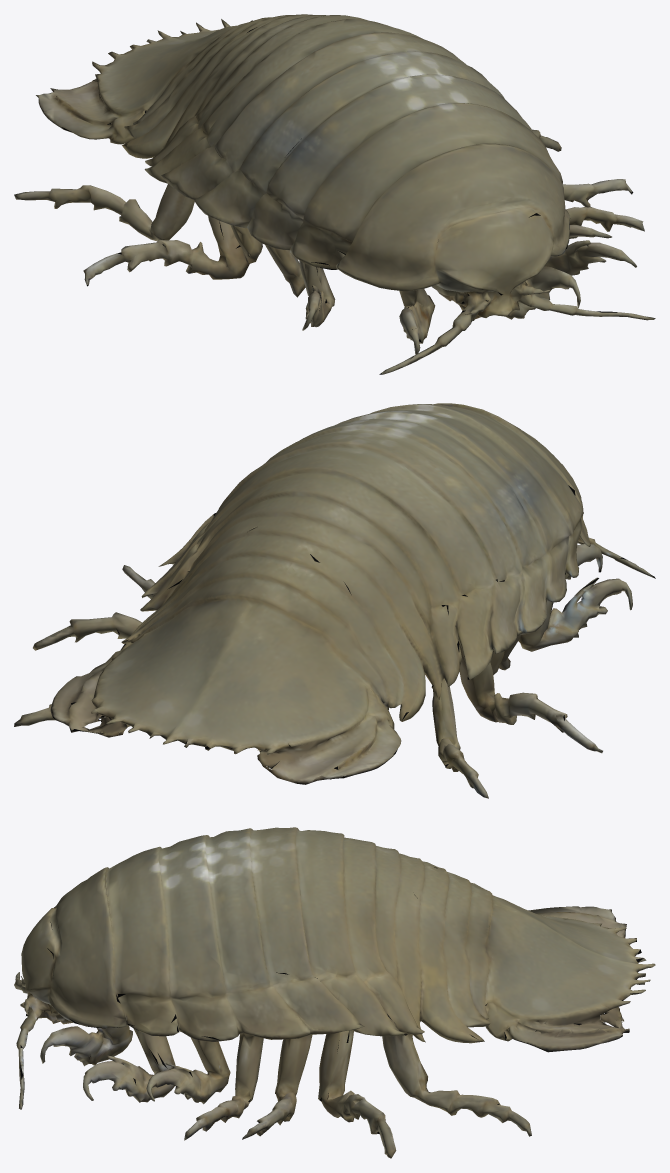
Rendered from giant_isopod.glb.
3 views of the same model, one above another, from view 1: azimuth 30°, elevation 25°; view 2: azimuth 150°, elevation 25°; view 3: azimuth 270°, elevation 25° (orthographic). The views are drawn at different scales.
Visible parts, largest first — view 1: giant_isopod; view 2: giant_isopod; view 3: giant_isopod.
Part boxes in pixels (x1,y1,x2,y2): giant_isopod: (14, 14, 655, 374); giant_isopod: (14, 403, 655, 798); giant_isopod: (14, 827, 655, 1158).
Bounding box in the file's own units: 0.2541 × 0.1072 × 0.3004.
Materials: 1 (1 with a texture image).
